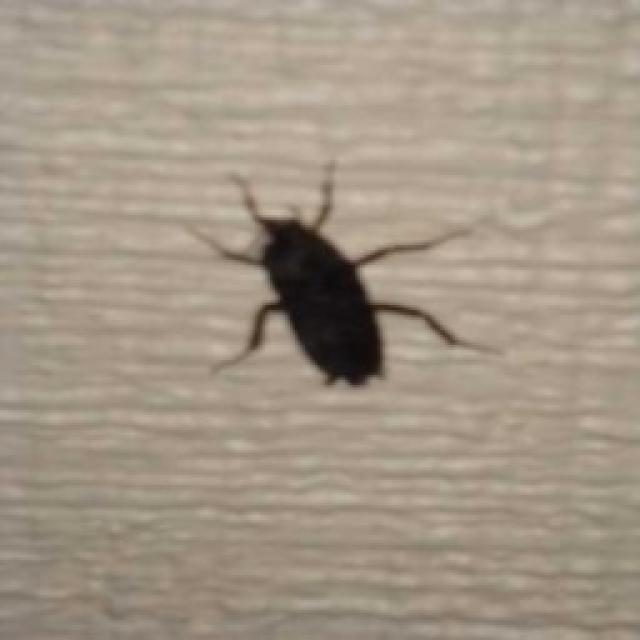cockroach: (181, 154, 499, 392)
